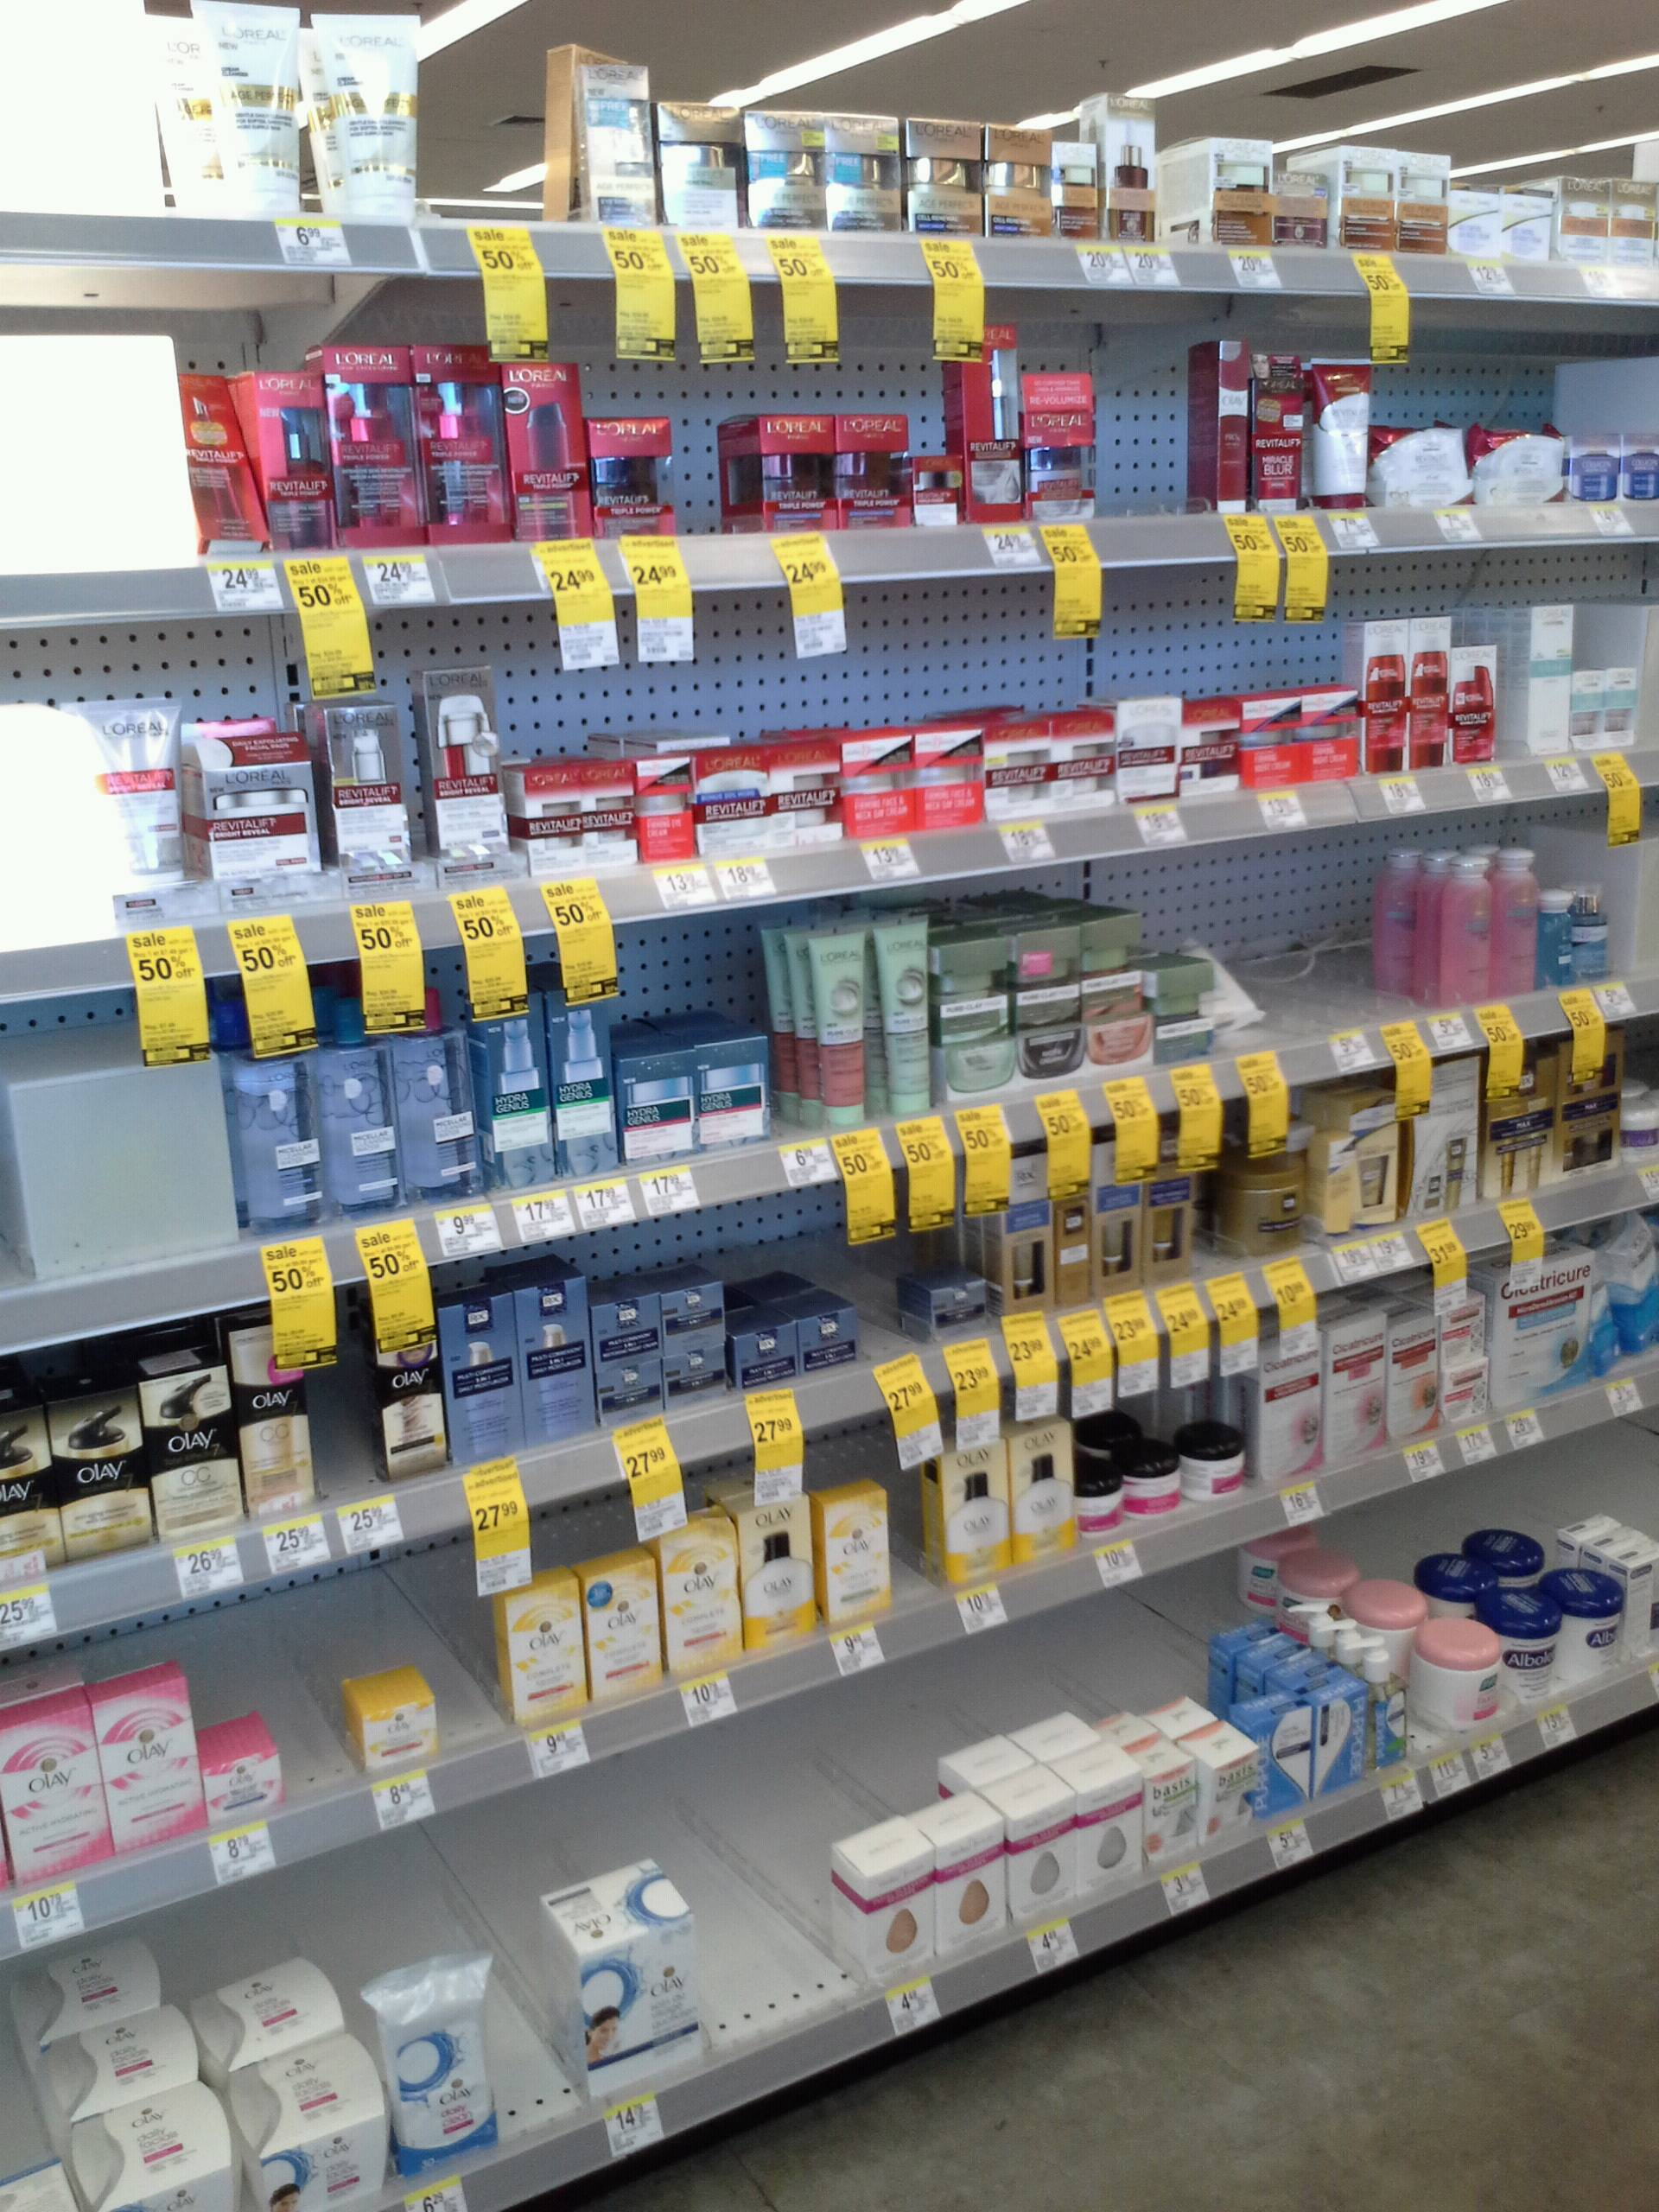Out-of-stock: (1241, 838, 1443, 1062), (704, 1791, 845, 2106), (420, 5, 554, 293), (1098, 312, 1206, 568), (857, 1270, 920, 1372)
